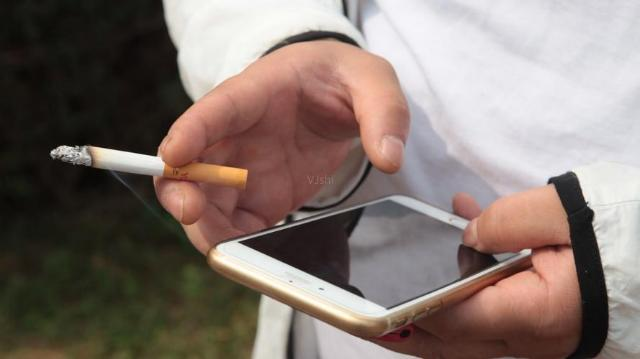Cigarette: (51, 146, 249, 190)
